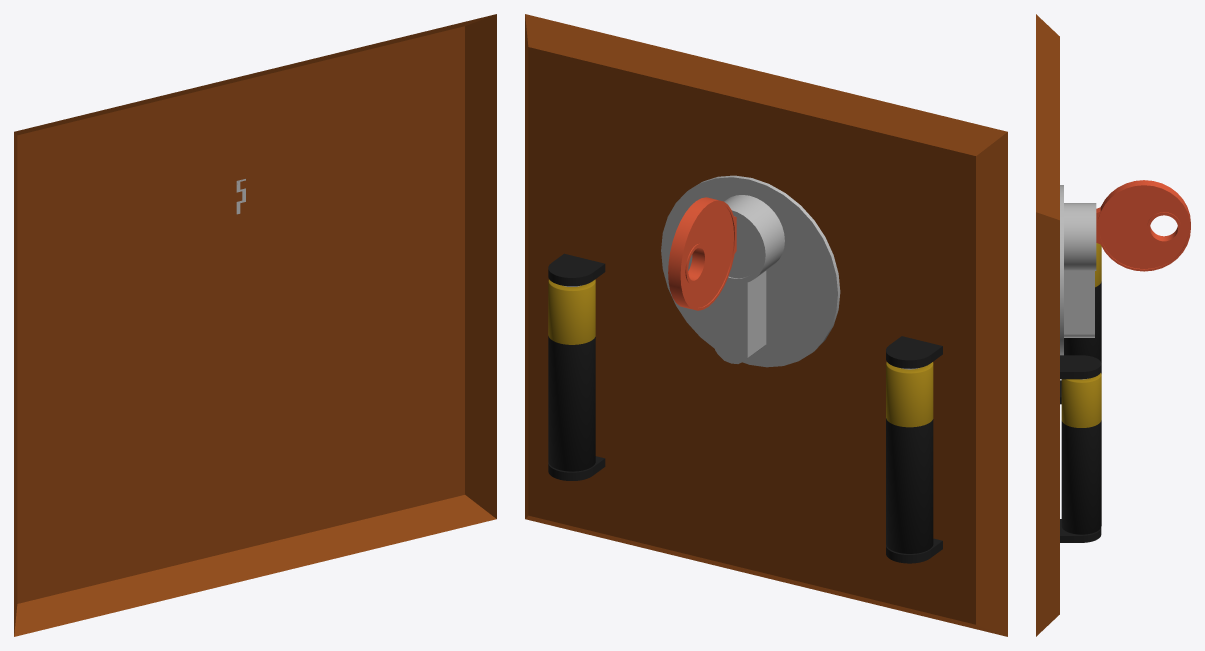
File: Key_and_Battery_Mount.fbx
3 views of the same model, side by side, from view 1: azimuth 30°, elevation 25°; view 2: azimuth 150°, elevation 25°; view 3: azimuth 270°, elevation 25° (orthographic). The views are drawn at different scales.
Parts seen in each view (by area): view 1: Frame; view 2: Frame, Key Hole Body, Battery 2 Black End, Battery Black End, Key Body, Battery Gold End, Battery 2 Gold End, Battery 2 Holder, Battery Holder, Key Hole Rotator; view 3: Frame, Key Body, Key Hole Body, Battery 2 Black End, Battery 2 Gold End, Battery 2 Holder, Battery Black End, Battery Gold End.
Boxes of the visible parts, x1,y1,x2,y2 form: Frame: (14,14,496,636); Frame: (525,14,1007,636); Key Hole Body: (661,175,840,367); Battery 2 Black End: (548,336,595,471); Battery Black End: (886,418,933,553); Key Body: (668,197,736,310); Battery Gold End: (886,362,933,427); Battery 2 Gold End: (548,279,595,344); Battery 2 Holder: (548,253,605,480); Battery Holder: (886,336,942,563); Key Hole Rotator: (728,217,760,278); Frame: (1036,14,1059,636); Key Body: (1096,180,1190,271); Key Hole Body: (1060,185,1096,355); Battery 2 Black End: (1061,420,1101,534); Battery 2 Gold End: (1061,373,1101,427); Battery 2 Holder: (1060,355,1101,542); Battery Black End: (1064,281,1101,373); Battery Gold End: (1095,243,1101,287).
Bounding box in the file's own units: 12 × 12 × 3.97.
